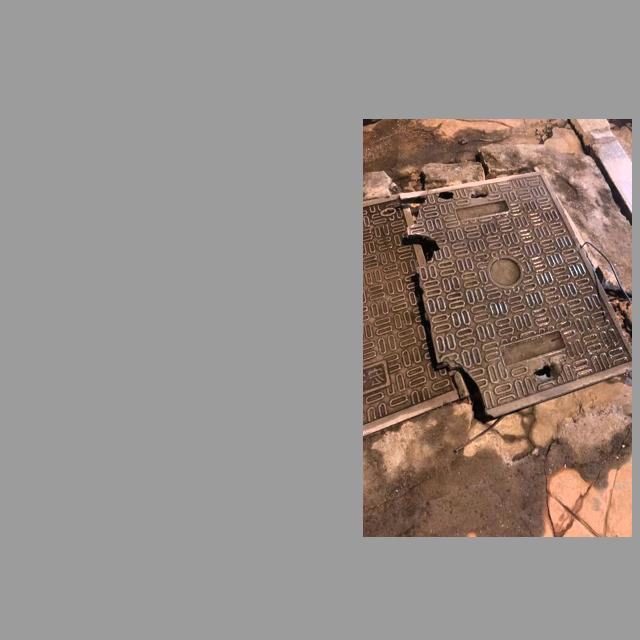broke: (369, 153, 626, 468)
